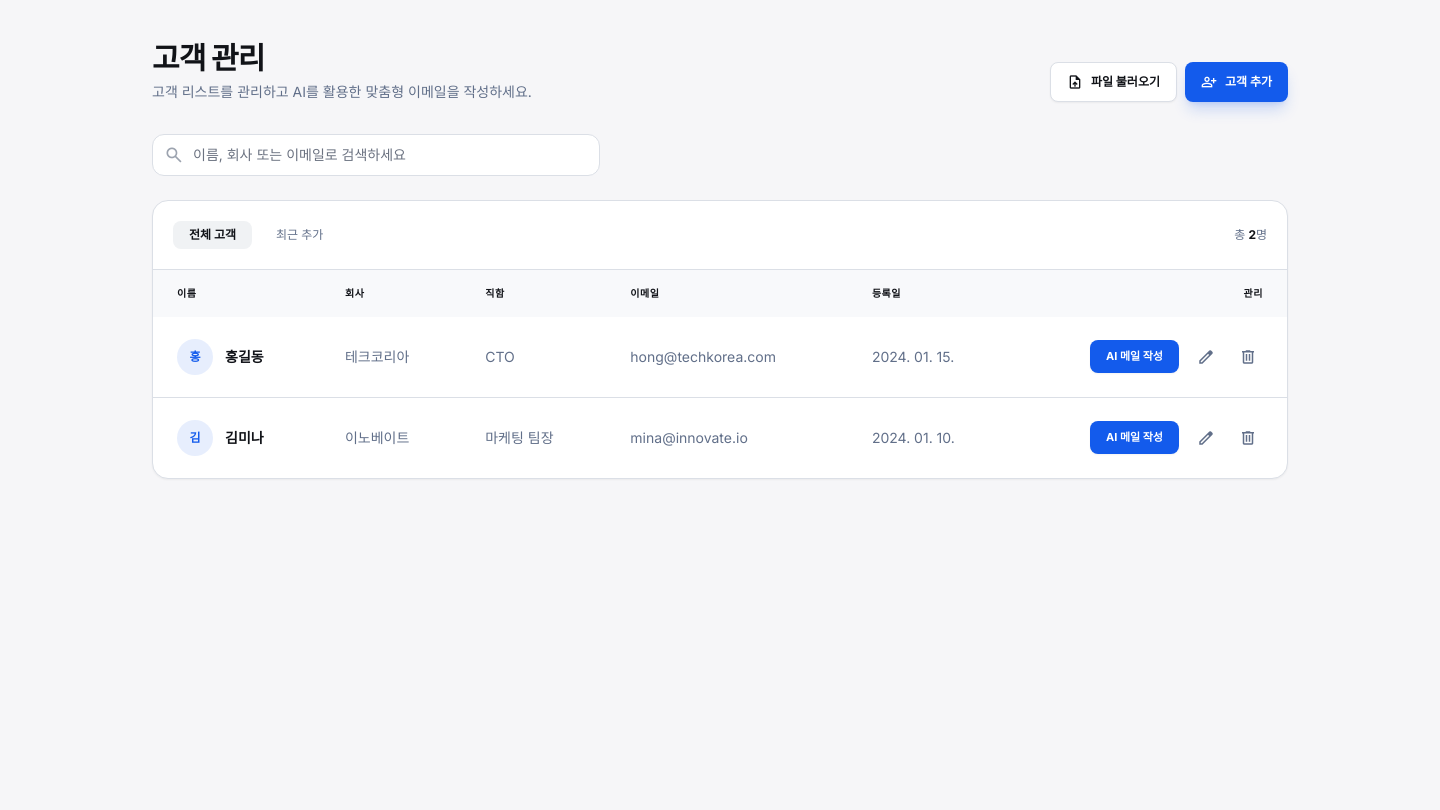
Scenario: CustomerManagement › 고객 추가 모달 › 중복 이메일 오류 시 모달에 서버 오류 메시지를 표시한다
Check: the text "홍길동" is shown, box [225, 346, 264, 366]
Click the button "고객 추가". click: coordinates (1236, 82)
box: [1185, 62, 1288, 102]
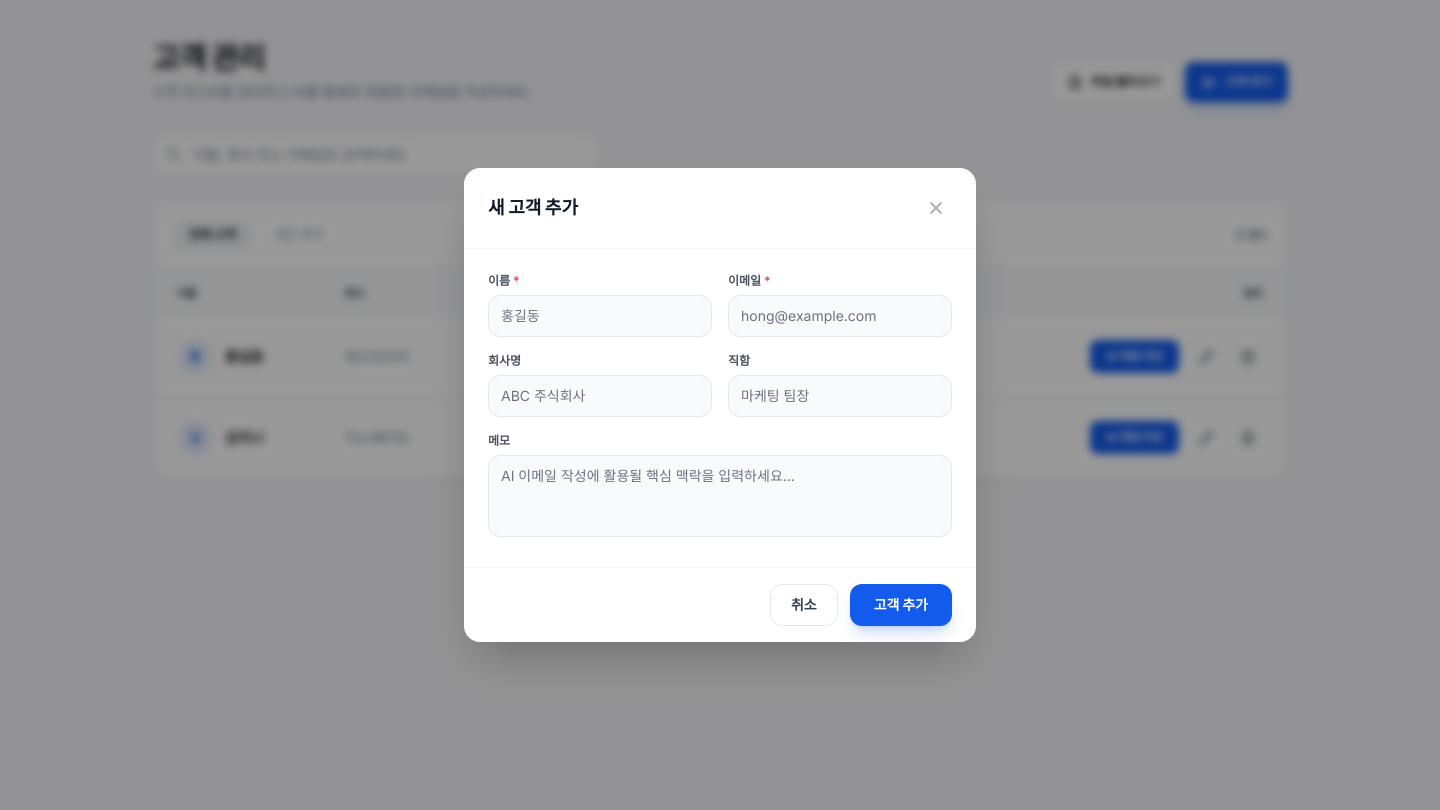
Type "중복고객" into the field with placeholder "홍길동". click: coordinates (600, 316)
box: [488, 295, 712, 337]
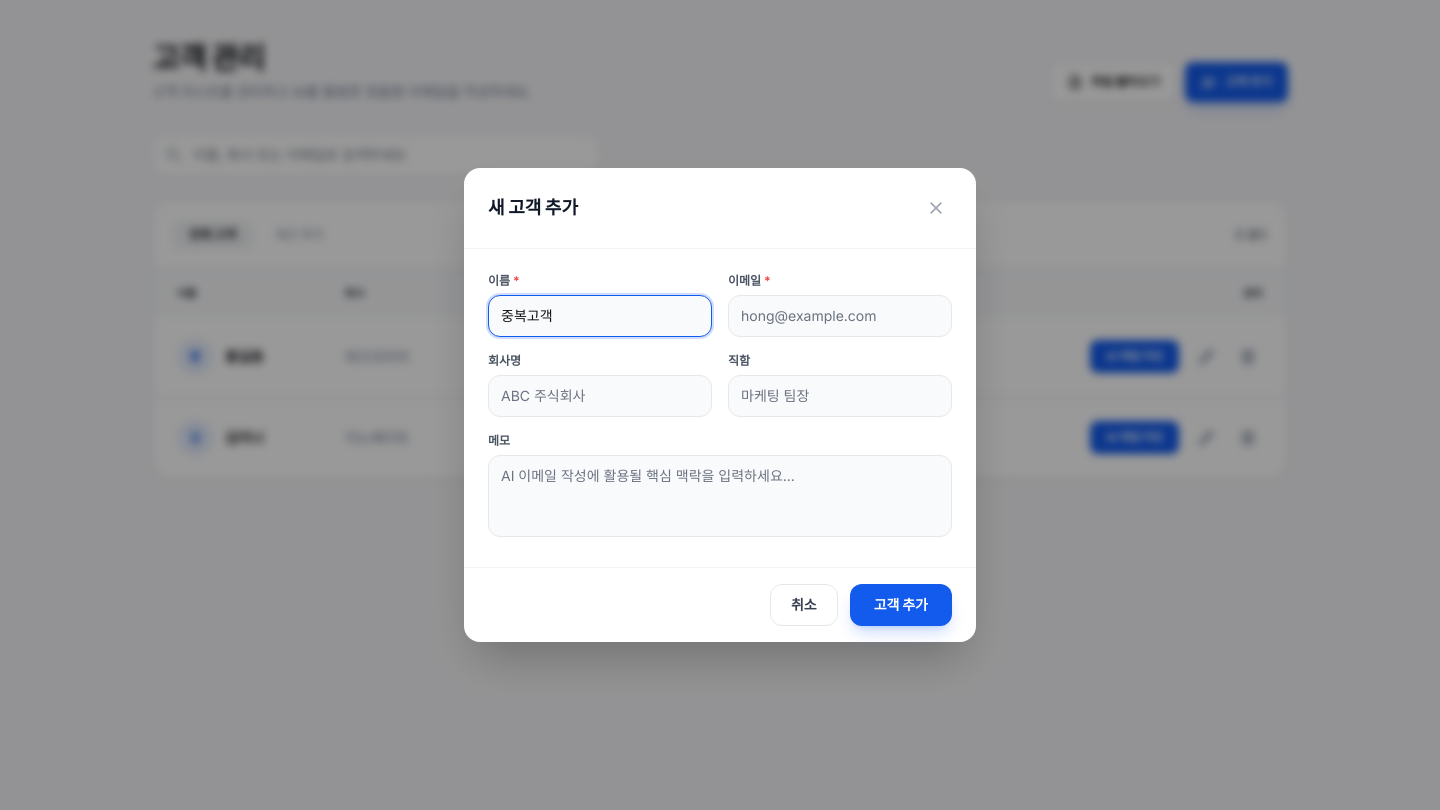
Type "hong@techkorea.com" into the field with placeholder "hong@example.com". click: coordinates (840, 316)
box: [728, 295, 952, 337]
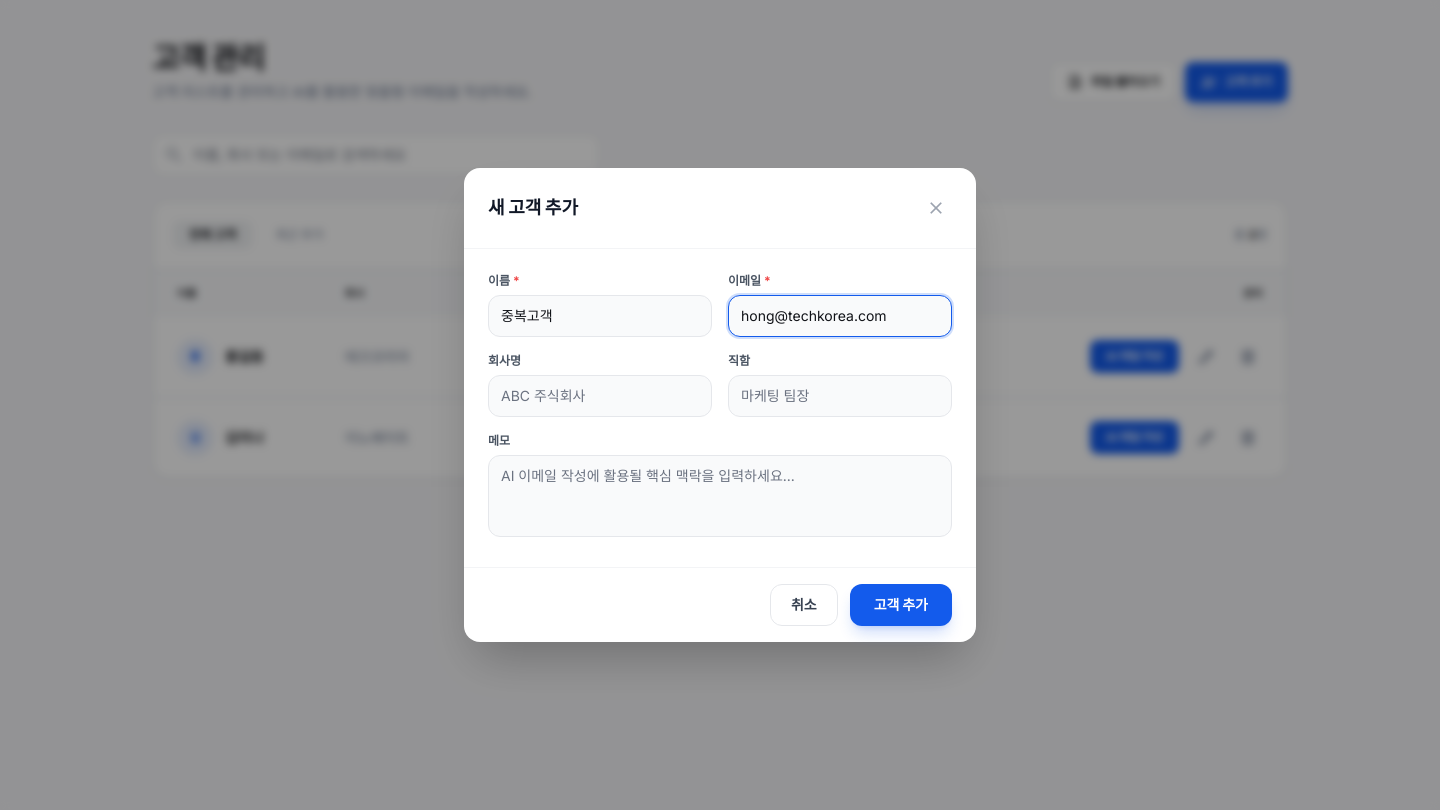
Click the button "고객 추가". click: coordinates (901, 605)
box: [850, 584, 952, 626]
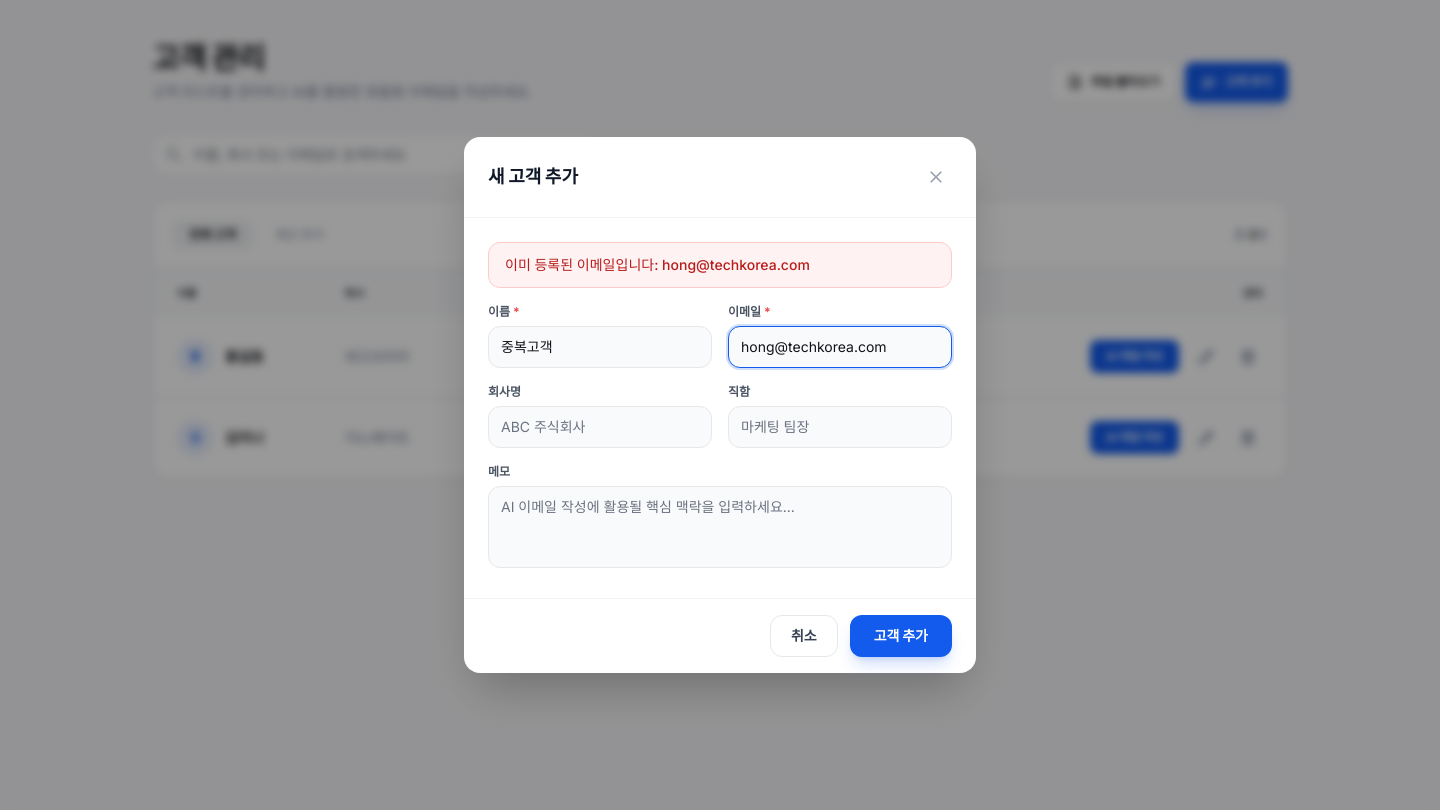
Check: the text "이미 등록된 이메일입니다: hong@techkorea.com" is shown, box [488, 242, 952, 288]
